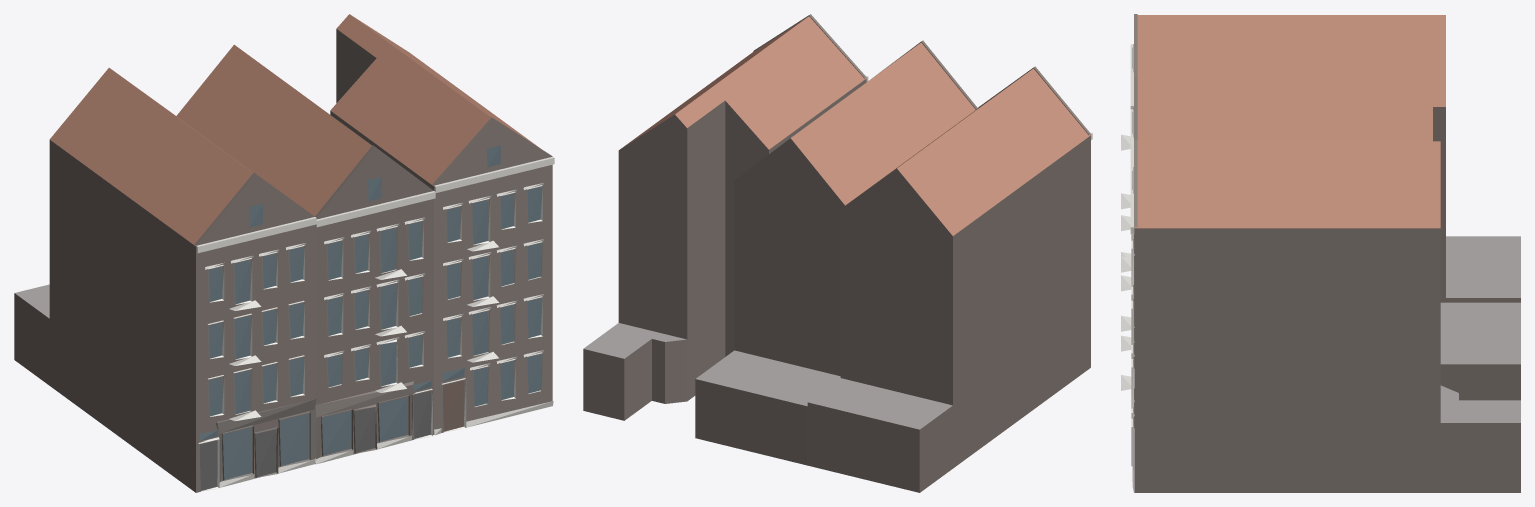
File: chunk-face-pretorius-72-120-r1.lod2.glb
3 views of the same model, side by side, from view 1: azimuth 30°, elevation 25°; view 2: azimuth 150°, elevation 25°; view 3: azimuth 270°, elevation 25° (orthographic). The views are drawn at different scales.
Visible parts, largest first — view 1: lod2; view 2: lod2; view 3: lod2.
Part boxes in pixels (x1,y1,x2,y2): lod2: (14,14,554,492); lod2: (583,14,1092,492); lod2: (1121,14,1520,492).
Bounding box in the file's own units: 20.4 × 16.65 × 18.6.
